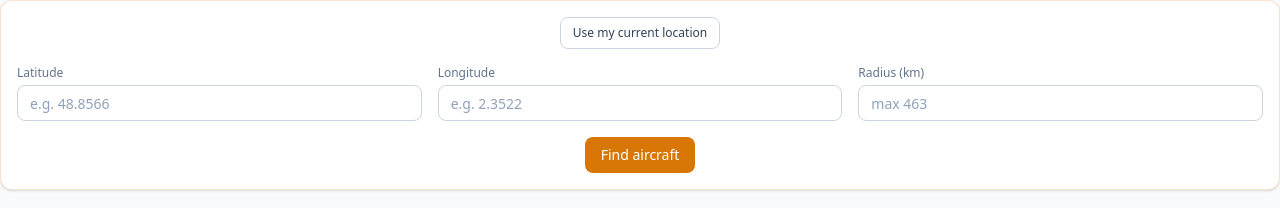
Test: FlyOverForm › current location › disables the control while a lookup is pending
Click the button "Use my current location".
click(640, 33)  # box [560,17,720,49]
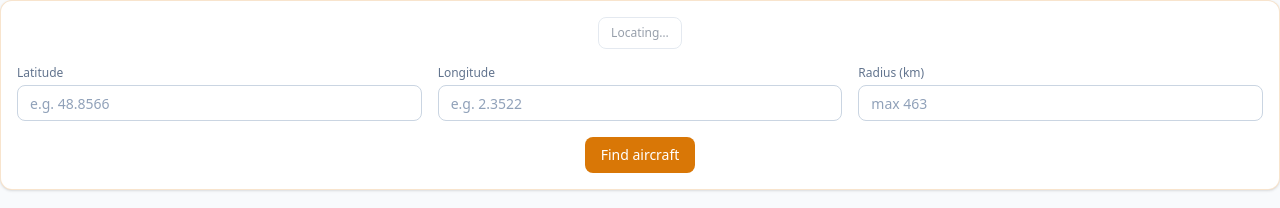
Now the button "Locating…" is disabled, box [598,17,682,49]
